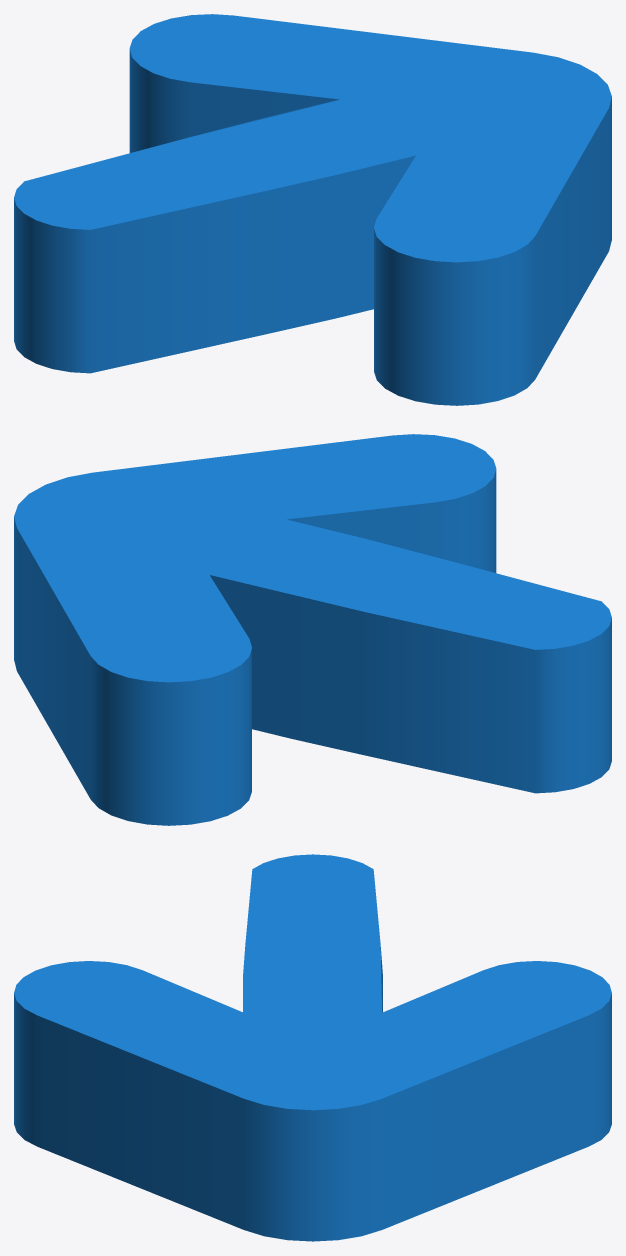
Rendered from arrow-infos.glb.
3 renders of one model, top to bottom at view 1: azimuth 30°, elevation 25°; view 2: azimuth 150°, elevation 25°; view 3: azimuth 270°, elevation 25°, orthographic. The views are drawn at different scales.
Parts seen in each view (by area): view 1: Object_14; view 2: Object_14; view 3: Object_14.
Boxes of the visible parts, x1,y1,x2,y2 form: Object_14: [14, 14, 611, 405]; Object_14: [14, 434, 611, 825]; Object_14: [14, 854, 611, 1241].
Size of the model in its own units: 0.149 by 0.0357 by 0.1472.
